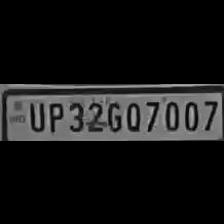0: (161, 97, 181, 130), (181, 97, 199, 130)
2: (86, 98, 104, 132)
3: (64, 98, 84, 132)
7: (142, 96, 160, 132), (200, 97, 218, 131)
G: (106, 97, 122, 132)
P: (45, 98, 63, 132)
Q: (122, 98, 142, 132)
U: (25, 99, 45, 131)
